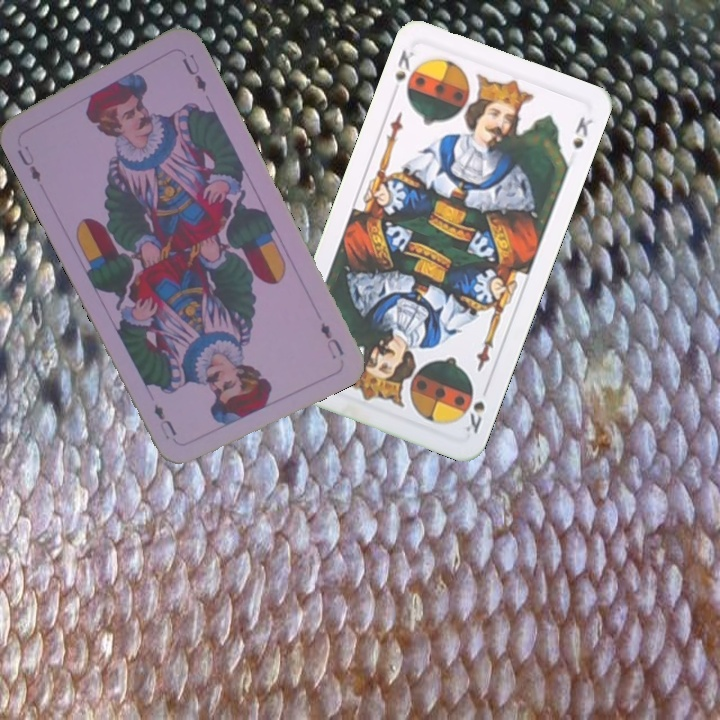EU: (316, 319, 347, 362), (13, 144, 44, 185)
SK: (387, 45, 422, 100), (461, 396, 488, 436)
